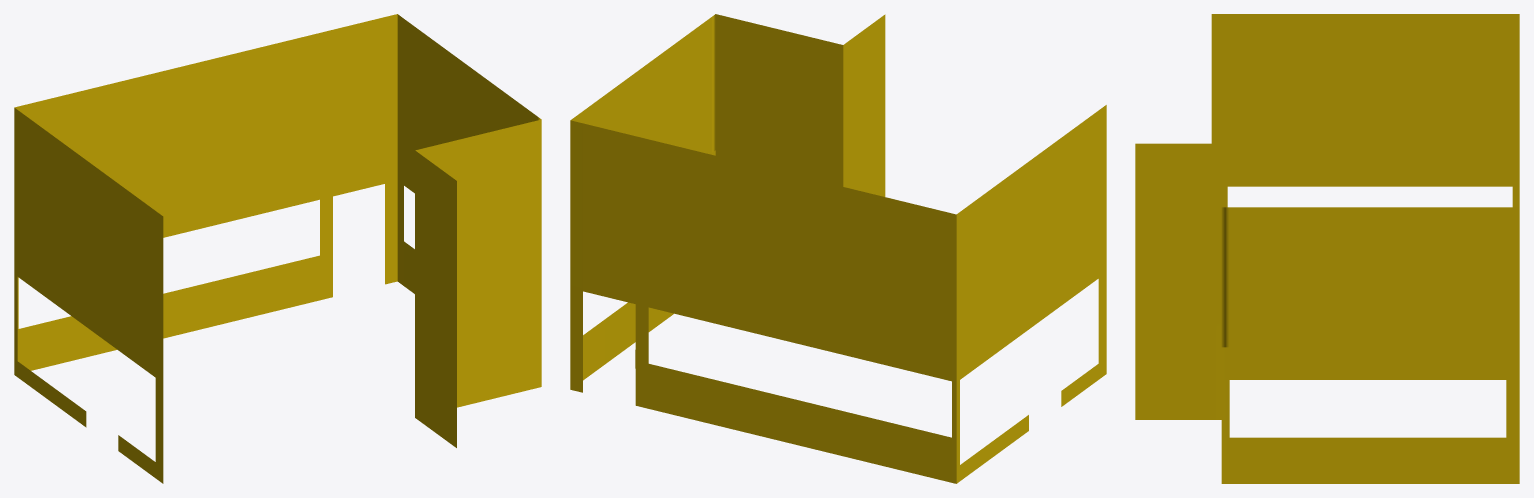
The picture shows the model from 3 angles, left to right: view 1: azimuth 30°, elevation 25°; view 2: azimuth 150°, elevation 25°; view 3: azimuth 270°, elevation 25°; orthographic projection. The views are drawn at different scales.
Parts seen in each view (by area): view 1: W_01_WP_01; view 2: W_01_WP_01; view 3: W_01_WP_01.
Part boxes in pixels (box(x1,y1,x2,y2)): W_01_WP_01: box(14, 14, 541, 483); W_01_WP_01: box(570, 14, 1106, 483); W_01_WP_01: box(1135, 14, 1519, 483).
Bounding box in the file's own units: 885 × 590 × 743.
